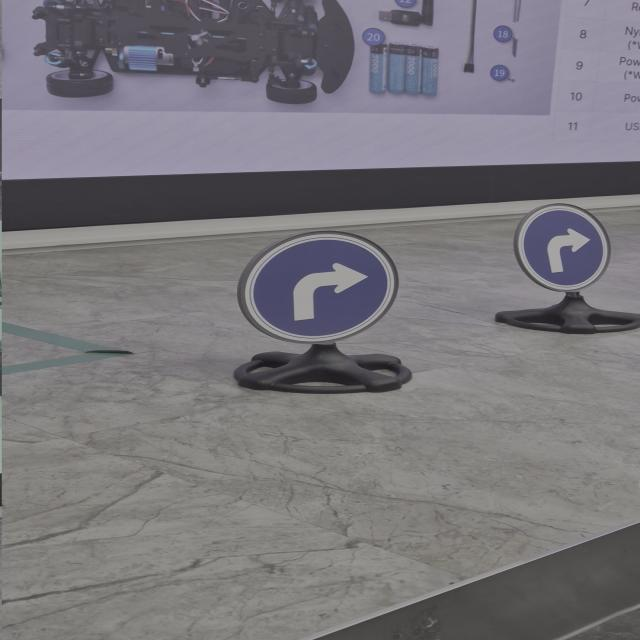right_dierection: (230, 225, 457, 363)
